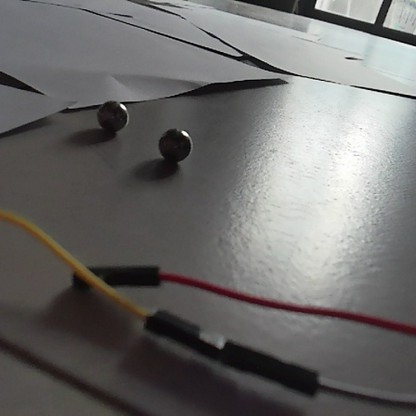ironball: (93, 98, 130, 137), (158, 126, 192, 163)
